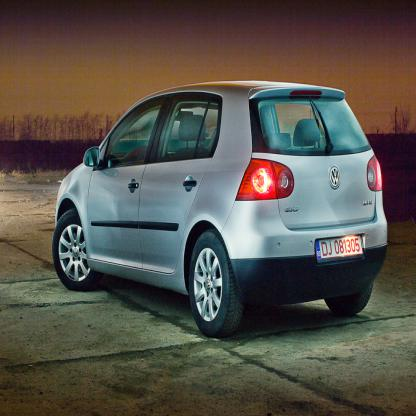Car: (51, 80, 388, 338)
